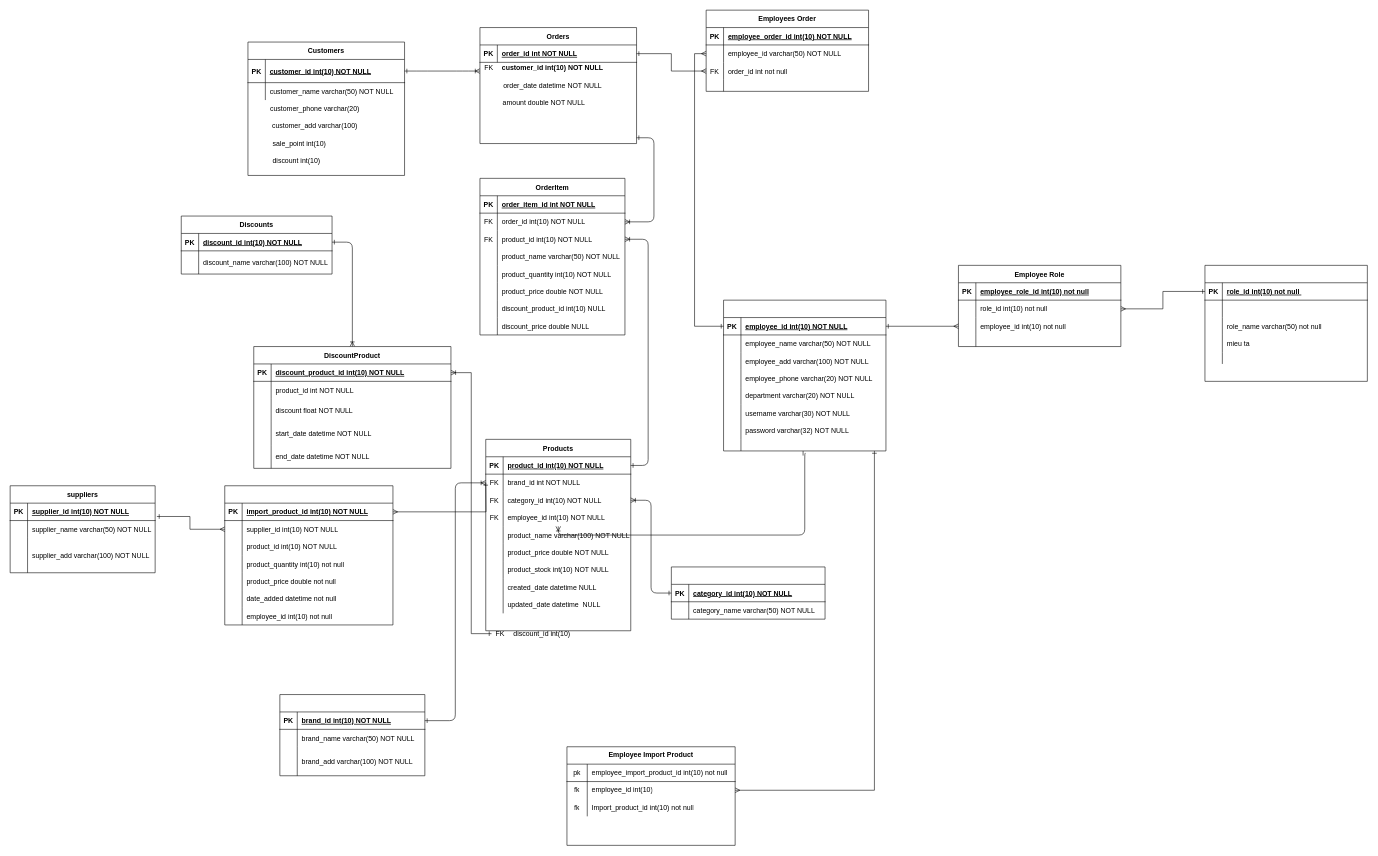
The diagram is 1378 pixels wide and 856 high, and some of its shapes have lost their labels. The box of each missing label's shape, as (x1, y1, x2, y2) in pixels:
Brands: (279, 694, 425, 776)
Categories: (671, 566, 825, 619)
Employees: (723, 300, 886, 451)
import_products: (224, 485, 393, 625)
Roles: (1204, 265, 1367, 381)
